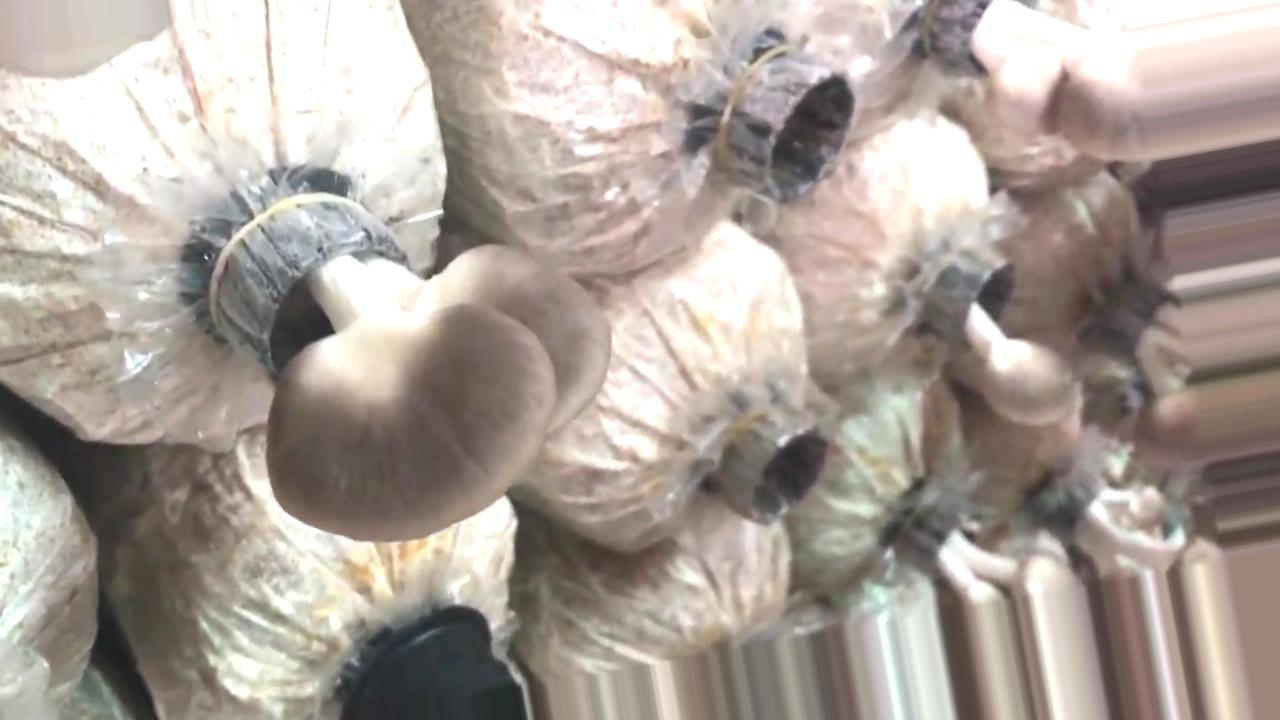nam: (224, 193, 607, 542), (938, 245, 1080, 427)
